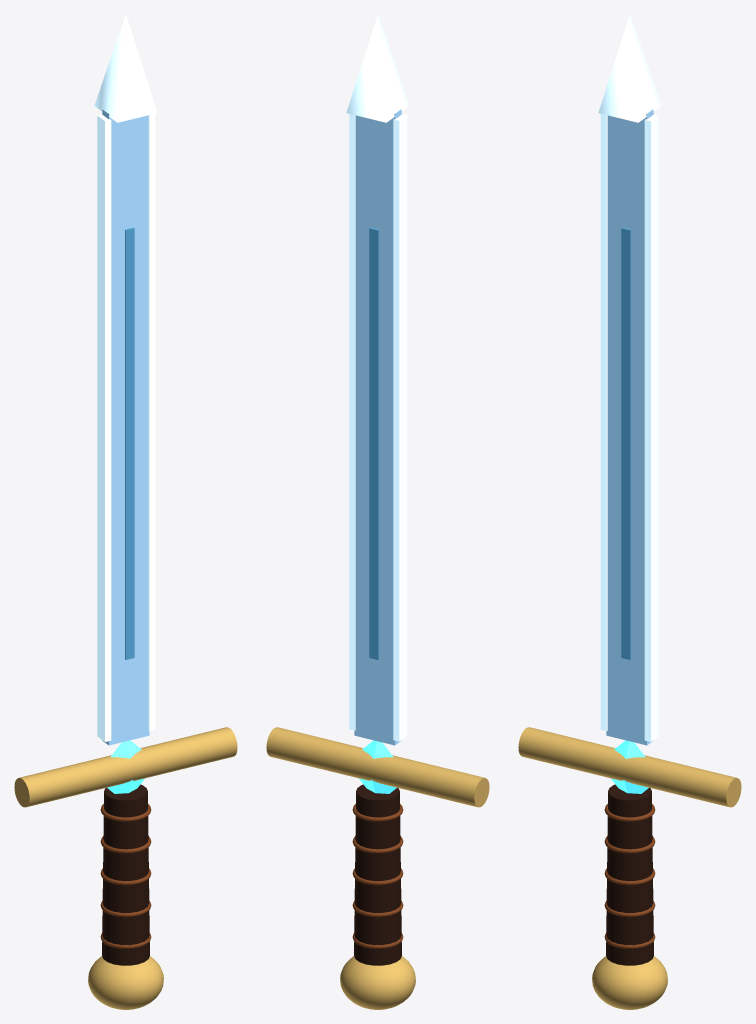
File: swing-study-crystal-sword-v1.glb
3 renders of one model, left to right at view 1: azimuth 30°, elevation 25°; view 2: azimuth 150°, elevation 25°; view 3: azimuth 330°, elevation 25°, orthographic.
Parts seen in each view (by area): view 1: Blade, Edge_L, Grip, Crossguard, Edge_R, Fuller, Tip, Pommel, Gem; view 2: Blade, Edge_L, Grip, Crossguard, Edge_R, Fuller, Tip, Pommel, Gem; view 3: Blade, Edge_R, Grip, Crossguard, Edge_L, Fuller, Tip, Pommel, Gem.
Part boxes in pixels (x1,y1,x2,y2): Blade: [102, 109, 149, 745]; Edge_L: [97, 114, 111, 741]; Grip: [102, 784, 149, 965]; Crossguard: [14, 727, 237, 807]; Edge_R: [148, 114, 155, 731]; Fuller: [125, 227, 134, 659]; Tip: [94, 14, 157, 122]; Pommel: [88, 956, 163, 1009]; Gem: [107, 740, 144, 793]; Blade: [354, 109, 401, 745]; Edge_L: [393, 114, 407, 741]; Grip: [354, 784, 401, 965]; Crossguard: [266, 727, 489, 807]; Edge_R: [349, 114, 355, 730]; Fuller: [369, 227, 378, 659]; Tip: [346, 14, 409, 122]; Pommel: [340, 956, 415, 1009]; Gem: [359, 740, 396, 793]; Blade: [606, 109, 653, 745]; Edge_R: [644, 114, 658, 741]; Grip: [606, 784, 653, 965]; Crossguard: [518, 727, 741, 807]; Edge_L: [600, 114, 607, 731]; Fuller: [621, 227, 630, 659]; Tip: [598, 14, 661, 122]; Pommel: [592, 956, 667, 1009]; Gem: [611, 740, 648, 793].
Bounding box in the file's own units: 0.82 × 3.74 × 0.26.
